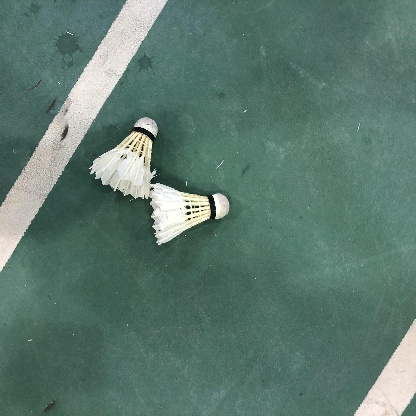ball_single: (90, 117, 158, 199), (148, 183, 230, 245)
